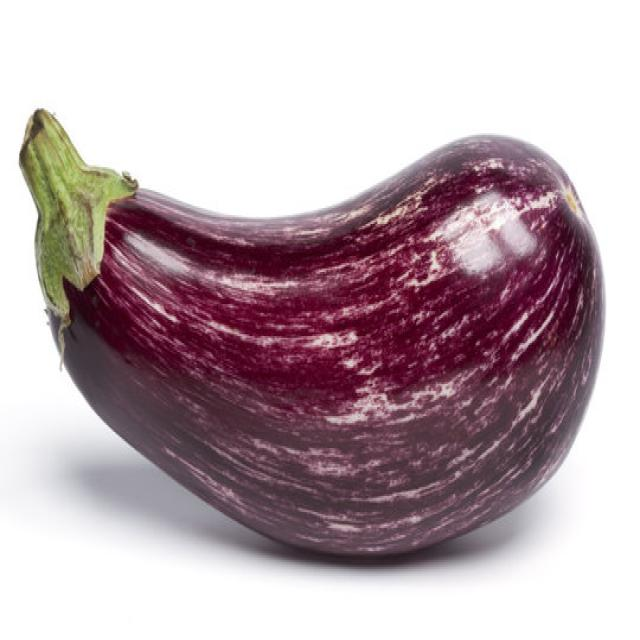Eggplant: (18, 105, 606, 560)
